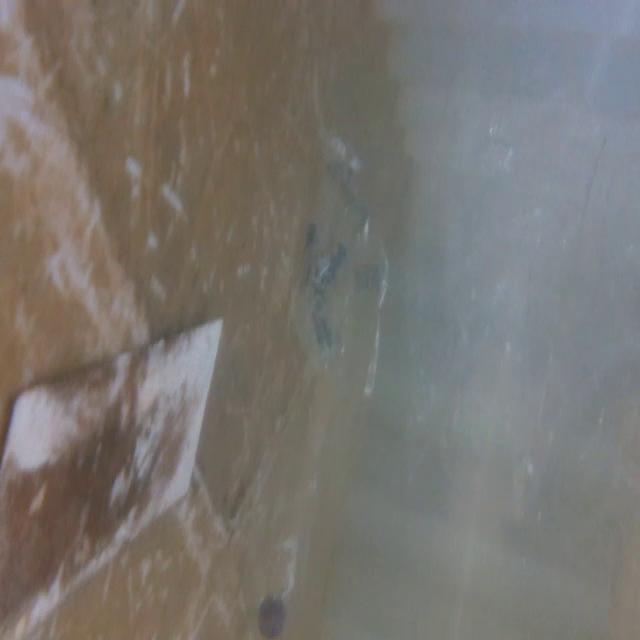plastic bags: (282, 161, 399, 404)
